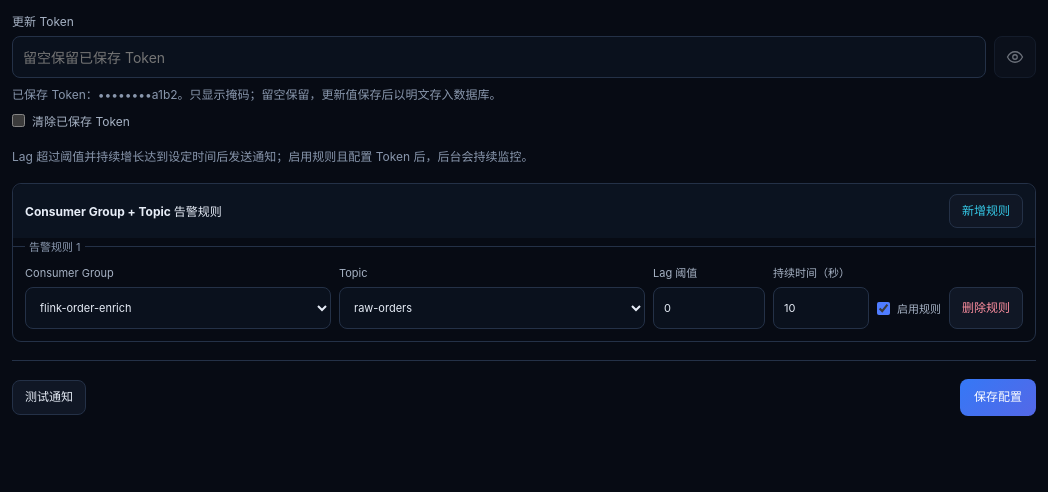
Test case: 飞书告警配置 › derives sorted unique group and committed-topic options and resets topic on group change
The image size is (1048, 492).
Select "audit-worker" in the dropdown labelled "Consumer Group" at [178, 308], box [25, 287, 331, 329]
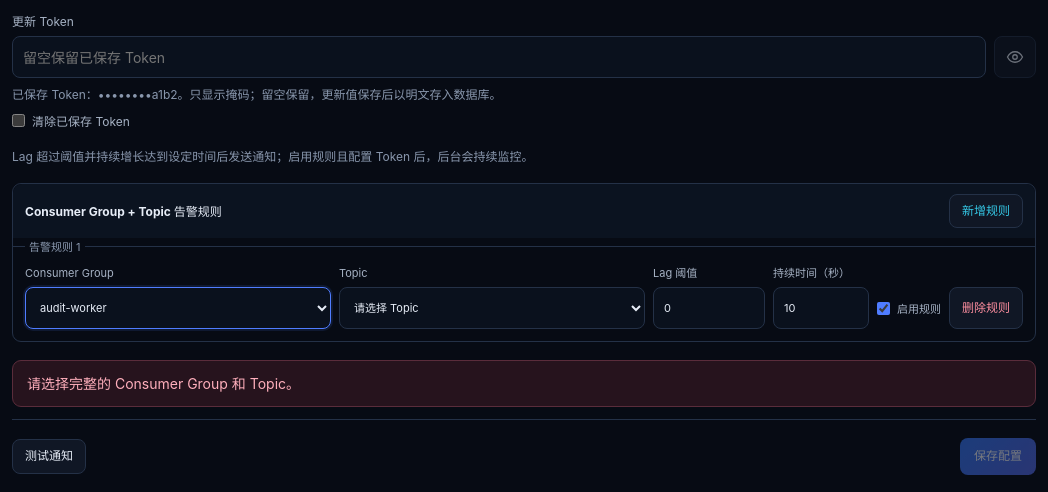
Expected: the dropdown labelled "Topic" shows "请选择 Topic", [339, 287, 645, 329]
Expected: the button "保存配置" is disabled, [960, 438, 1036, 475]
